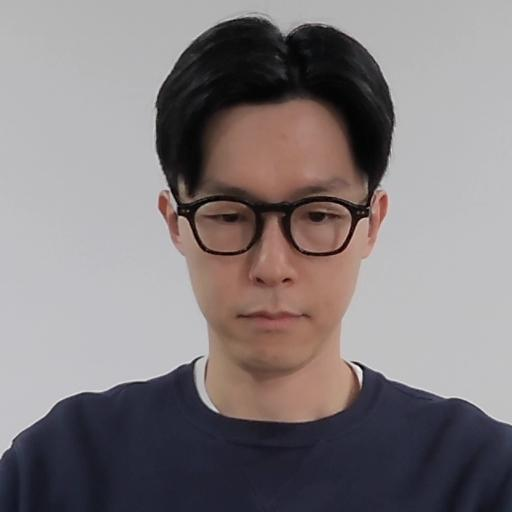no_glasses: (151, 15, 400, 371)
